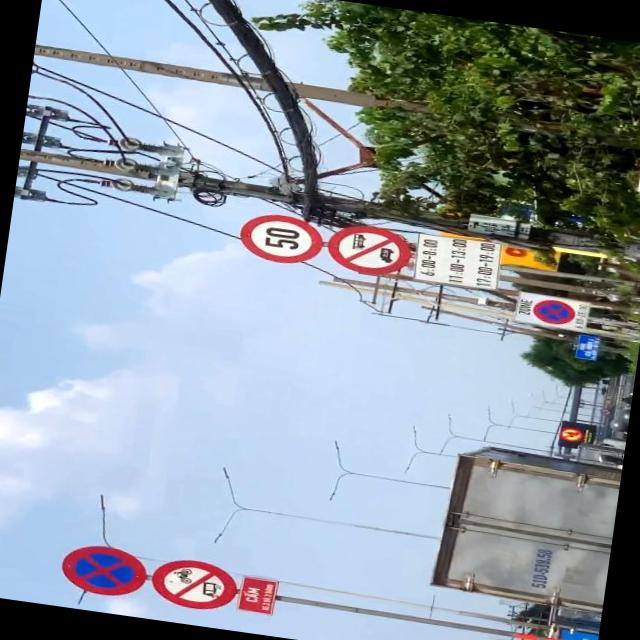P-104: (148, 554, 242, 615)
P-127: (237, 210, 325, 268)
P-130: (59, 539, 149, 600), (530, 296, 576, 328)
